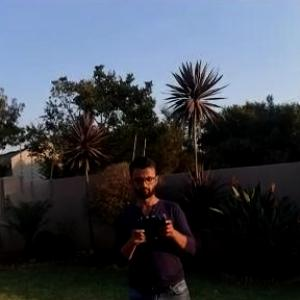follow: (108, 145, 204, 299)
